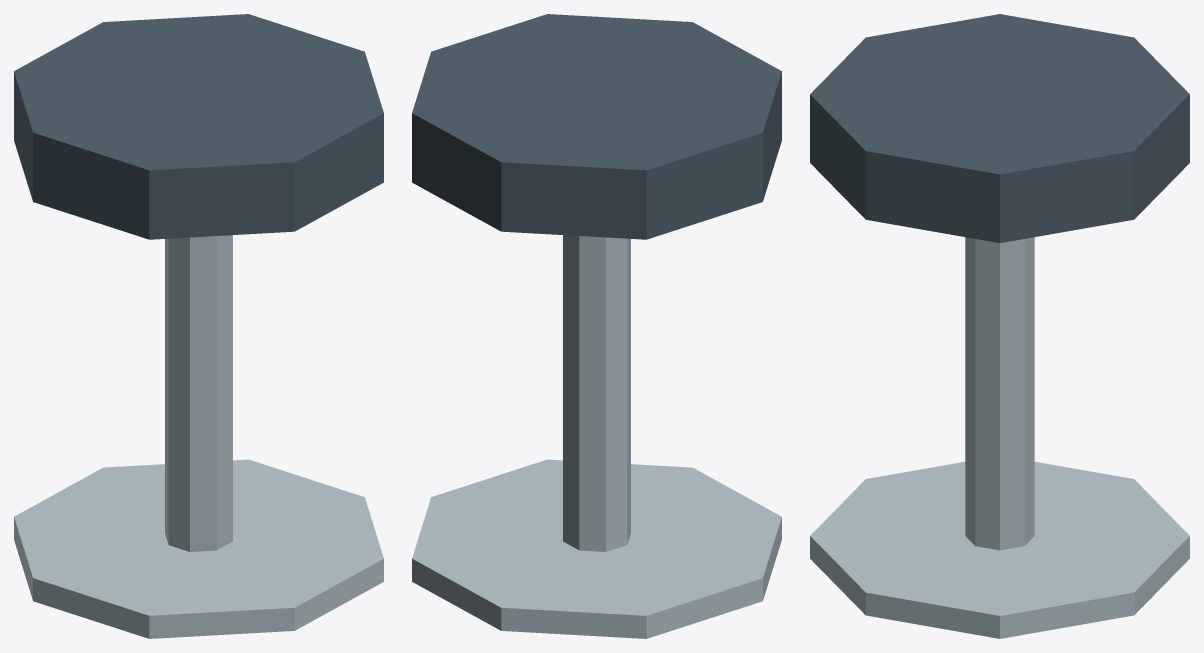
Rendered from industrial-swivel-stool.glb.
3 renders of one model, left to right at view 1: azimuth 30°, elevation 25°; view 2: azimuth 150°, elevation 25°; view 3: azimuth 270°, elevation 25°, orthographic.
Visible parts, largest first — view 1: dark, steel; view 2: dark, steel; view 3: dark, steel.
Boxes of the visible parts, x1,y1,x2,y2 form: dark: (14, 14, 383, 239); steel: (14, 235, 383, 638); dark: (412, 14, 781, 239); steel: (412, 235, 781, 638); dark: (810, 14, 1189, 243); steel: (810, 237, 1189, 638).
Bounding box in the file's own units: 0.6 × 0.81 × 0.6.
